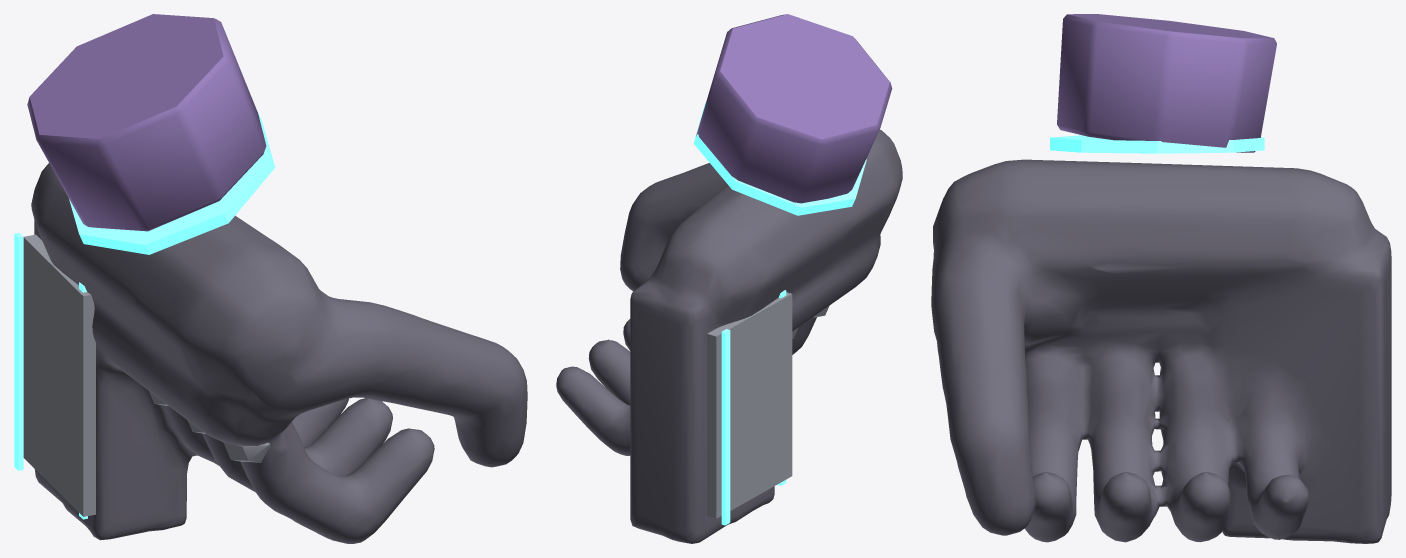
Rendered from w_hand_hold.glb.
3 renders of one model, left to right at view 1: azimuth 30°, elevation 25°; view 2: azimuth 150°, elevation 25°; view 3: azimuth 270°, elevation 25°, orthographic. The views are drawn at different scales.
Visible parts, largest first — view 1: glove, sleeve, body, acc; view 2: glove, sleeve, body, acc; view 3: glove, sleeve, acc.
Part boxes in pixels (<box>): glove: <box>31,163,527,543</box>; sleeve: <box>27,14,266,231</box>; body: <box>23,234,270,516</box>; acc: <box>14,111,275,519</box>; glove: <box>556,129,902,543</box>; sleeve: <box>696,14,892,203</box>; body: <box>707,292,829,518</box>; acc: <box>693,102,866,525</box>; glove: <box>931,159,1391,543</box>; sleeve: <box>1057,14,1276,152</box>; acc: <box>1050,135,1264,153</box>.
Bounding box in the file's own units: 0.1313 × 0.1682 × 0.138.
